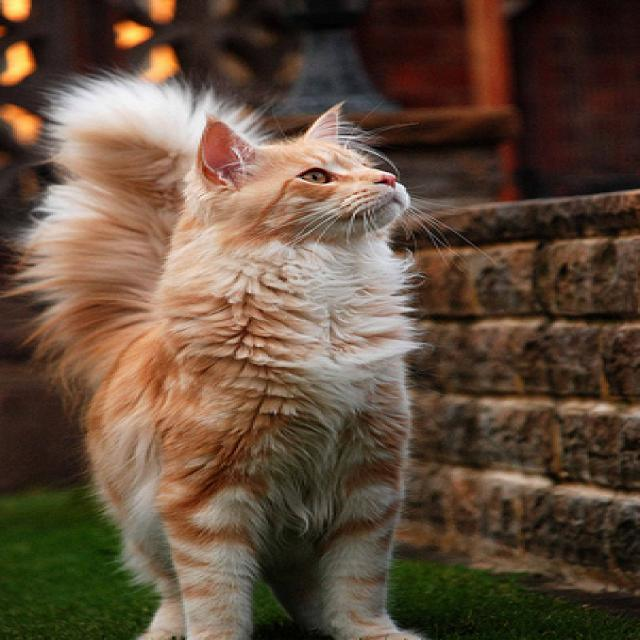Maine Coon: (8, 72, 444, 640)
